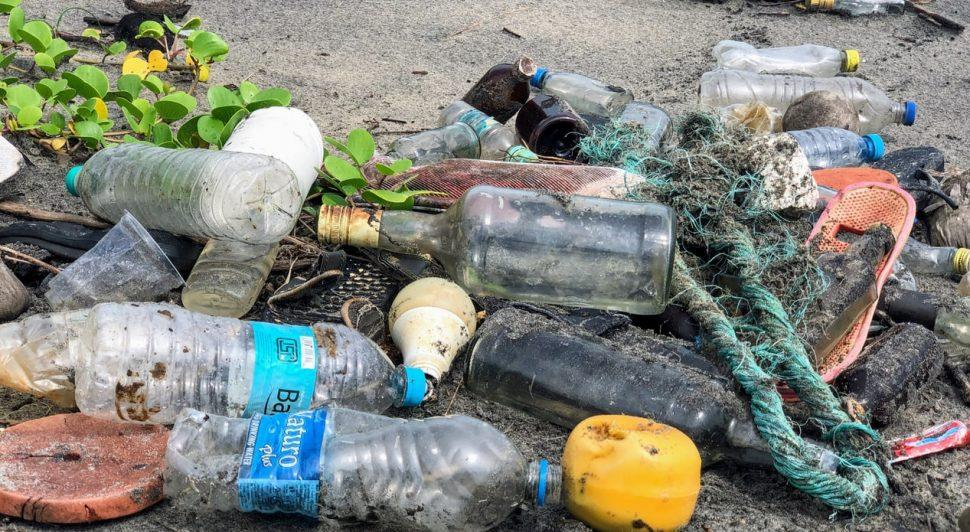Plastic: (154, 391, 562, 532), (58, 290, 445, 432), (52, 137, 330, 252), (678, 69, 926, 132), (724, 121, 915, 176), (526, 48, 643, 129), (704, 30, 867, 79), (873, 227, 970, 287)
